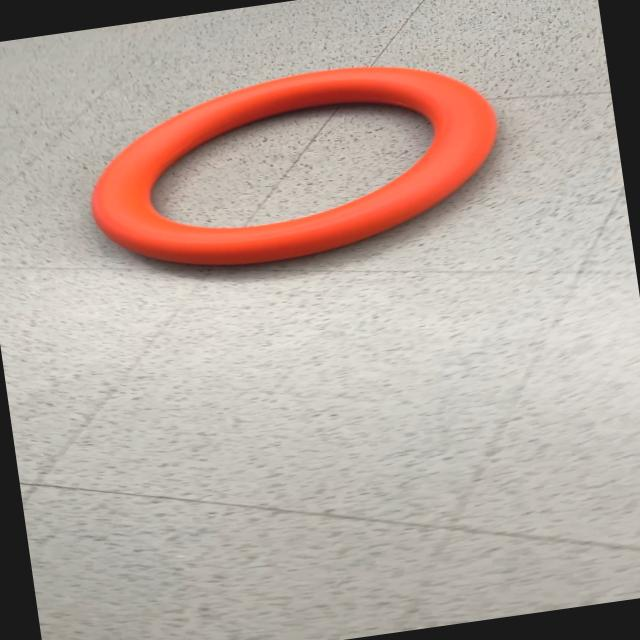note: (74, 46, 514, 286)
